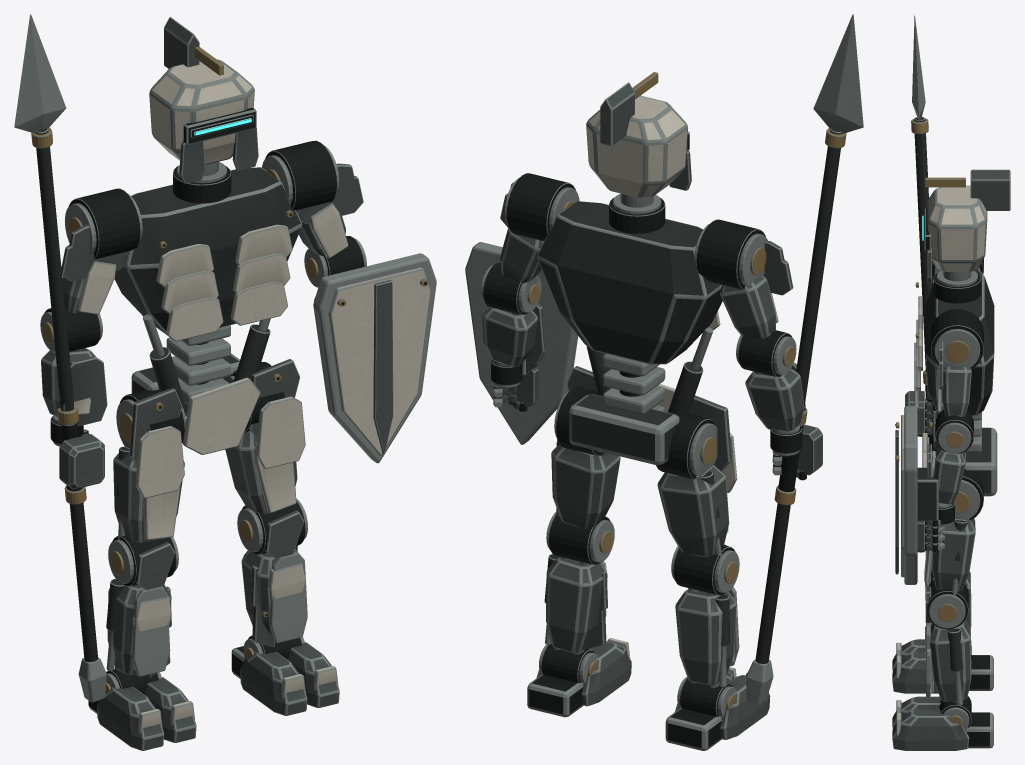
Rendered from speed-t3-legion.glb.
3 renders of one model, left to right at view 1: azimuth 30°, elevation 25°; view 2: azimuth 150°, elevation 25°; view 3: azimuth 270°, elevation 25°, orthographic. The views are drawn at different scales.
Parts seen in each view (by area): view 1: chest__metal, shieldL__clay, weaponR__metal, chest__clay, head__clay, pelvis__metal, pelvis__clay, hipR__clay, hipL__clay, ankleL__clay, ankleR__clay, shieldL__metal (+15 smaller); view 2: chest__metal, pelvis__metal, weaponR__metal, head__clay, shieldL__metal, kneeL__clay, hipR__clay, hipL__clay, kneeR__clay, shoulderR__metal, shoulderR__clay, kneeR__metal (+17 smaller); view 3: head__clay, chest__metal, shieldL__metal, ankleL__clay, pelvis__metal, weaponR__metal, shoulderL__metal, kneeL__metal, kneeL__clay, hipL__clay, shoulderL__clay, ankleR__clay (+14 smaller).
Part boxes in pixels (x1=…): chest__metal: x1=114, y1=162, x2=302, y2=333; shieldL__clay: x1=328, y1=267, x2=430, y2=455; weaponR__metal: x1=14, y1=14, x2=106, y2=702; chest__clay: x1=156, y1=224, x2=292, y2=341; head__clay: x1=149, y1=17, x2=258, y2=183; pelvis__metal: x1=116, y1=314, x2=285, y2=448; pelvis__clay: x1=129, y1=359, x2=299, y2=463; hipR__clay: x1=113, y1=426, x2=184, y2=542; hipL__clay: x1=225, y1=396, x2=305, y2=513; ankleL__clay: x1=240, y1=642, x2=339, y2=715; ankleR__clay: x1=96, y1=677, x2=196, y2=750; shieldL__metal: x1=313, y1=253, x2=436, y2=463; chest__metal: x1=537, y1=193, x2=722, y2=364; pelvis__metal: x1=554, y1=327, x2=717, y2=479; weaponR__metal: x1=746, y1=14, x2=863, y2=704; head__clay: x1=586, y1=82, x2=691, y2=197; shieldL__metal: x1=465, y1=242, x2=578, y2=444; kneeL__clay: x1=546, y1=557, x2=607, y2=652; hipR__clay: x1=657, y1=433, x2=737, y2=556; hipL__clay: x1=551, y1=445, x2=620, y2=528; kneeR__clay: x1=675, y1=544, x2=737, y2=685; shoulderR__metal: x1=694, y1=219, x2=770, y2=335; shoulderR__clay: x1=720, y1=240, x2=793, y2=338; kneeR__metal: x1=671, y1=545, x2=739, y2=687; head__clay: x1=927, y1=169, x2=1010, y2=283; chest__metal: x1=915, y1=269, x2=994, y2=415; shieldL__metal: x1=895, y1=406, x2=938, y2=584; ankleL__clay: x1=892, y1=696, x2=969, y2=750; pelvis__metal: x1=928, y1=402, x2=997, y2=520; weaponR__metal: x1=911, y1=15, x2=932, y2=444; shoulderL__metal: x1=930, y1=308, x2=983, y2=416; kneeL__metal: x1=926, y1=580, x2=968, y2=705; kneeL__clay: x1=925, y1=585, x2=971, y2=701; hipL__clay: x1=924, y1=518, x2=975, y2=591; shoulderL__clay: x1=936, y1=340, x2=971, y2=416; ankleR__clay: x1=892, y1=639, x2=938, y2=693.
Size of the model in its own units: 2.95 by 5.14 by 0.8889.
11 materials, 10 textured.
